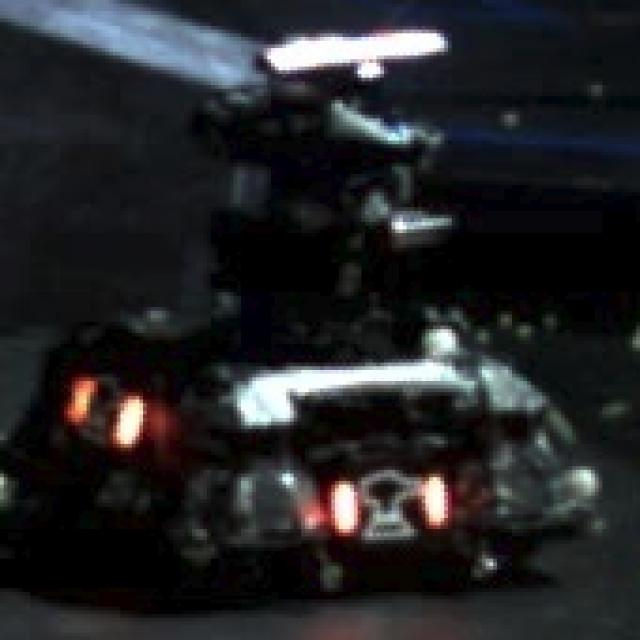Rs: (331, 470, 448, 536), (64, 378, 143, 440)
